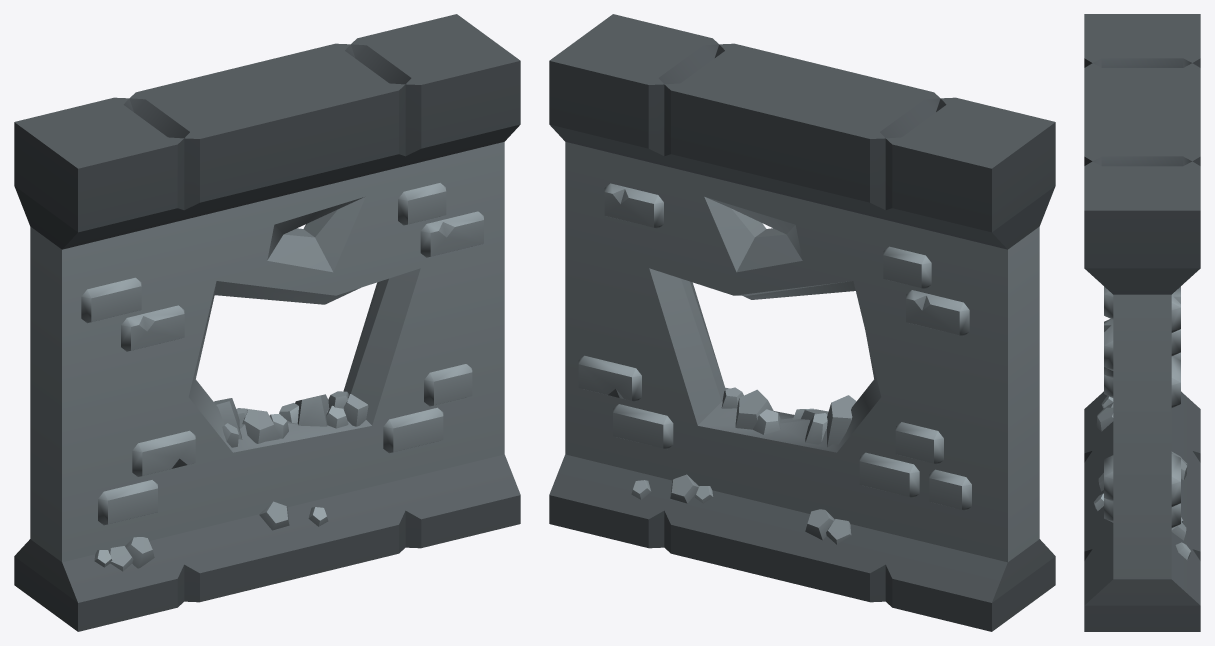
Rendered from wall_broken.gltf.
3 views of the same model, side by side, from view 1: azimuth 30°, elevation 25°; view 2: azimuth 150°, elevation 25°; view 3: azimuth 270°, elevation 25° (orthographic). The views are drawn at different scales.
Visible parts, largest first — view 1: wall_broken; view 2: wall_broken; view 3: wall_broken.
Part boxes in pixels (box(x1,y1,x2,y2)): wall_broken: box(14, 14, 520, 631); wall_broken: box(549, 14, 1055, 631); wall_broken: box(1084, 14, 1200, 631).
Size of the model in its own units: 4 by 4 by 1.
Materials: 1 (1 with a texture image).
